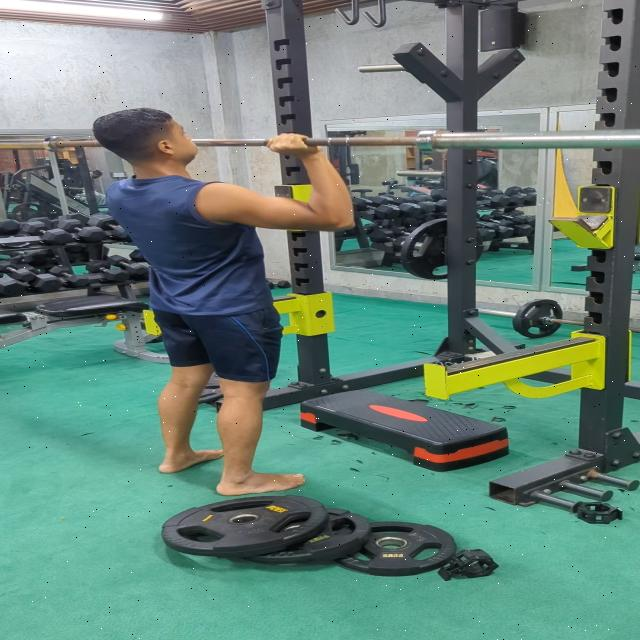Normal_OverheadPress: (80, 89, 379, 498)
